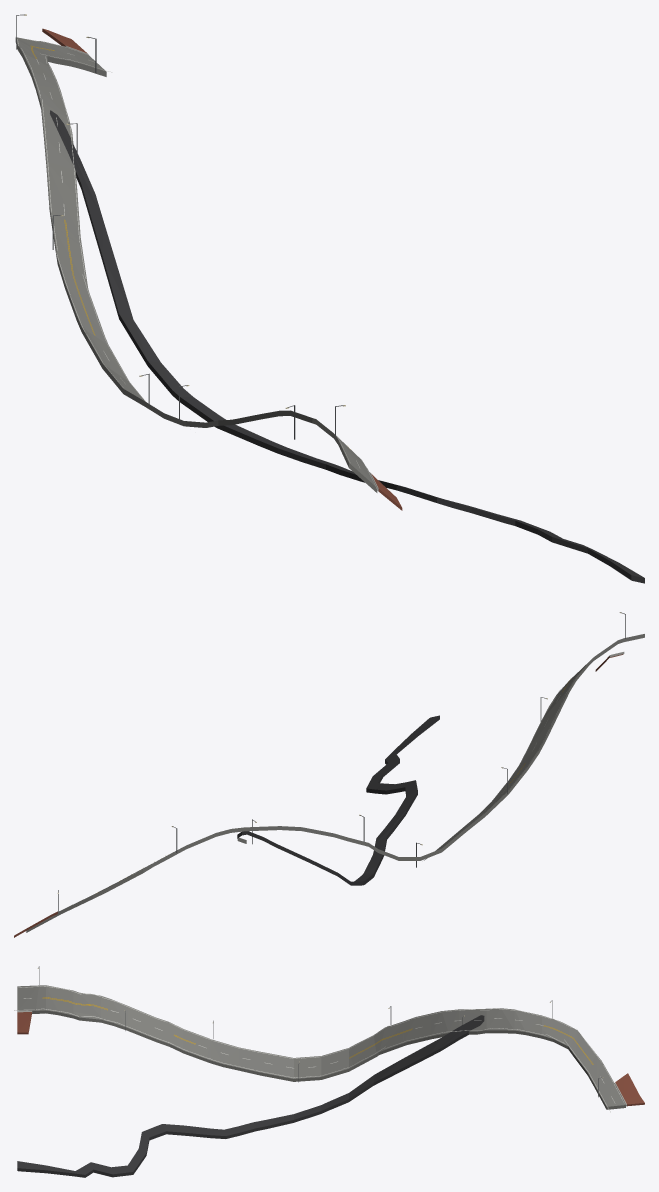
3 renders of one model, top to bottom at view 1: azimuth 30°, elevation 25°; view 2: azimuth 150°, elevation 25°; view 3: azimuth 270°, elevation 25°, orthographic. The views are drawn at different scales.
Size of the model in its own units: 70.21 by 57.04 by 229.
